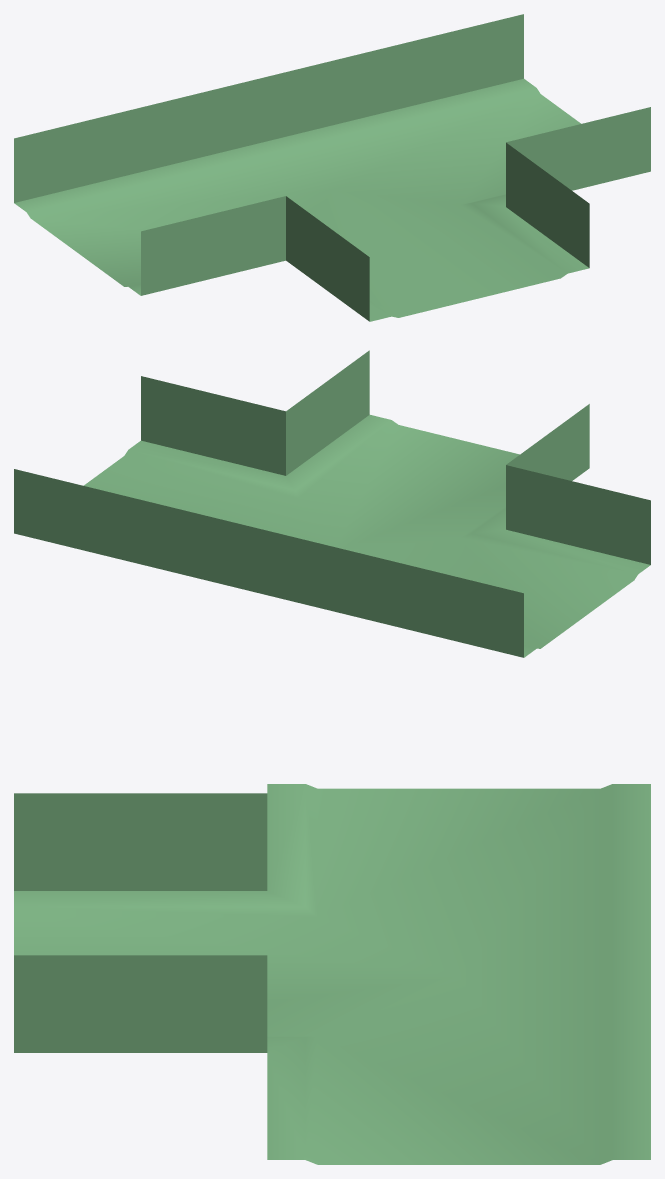
File: Bridge_T_16_A_COL.fbx
3 views of the same model, one above another, from view 1: azimuth 30°, elevation 25°; view 2: azimuth 150°, elevation 25°; view 3: azimuth 270°, elevation 25° (orthographic). The views are drawn at different scales.
Parts seen in each view (by area): view 1: Bridge_T_16_A_COL; view 2: Bridge_T_16_A_COL; view 3: Bridge_T_16_A_COL.
Part boxes in pixels (box(x1,y1,x2,y2)): Bridge_T_16_A_COL: box(14, 14, 650, 321); Bridge_T_16_A_COL: box(14, 350, 650, 657); Bridge_T_16_A_COL: box(14, 784, 650, 1164).
Bounding box in the file's own units: 1600 × 203 × 1145.
